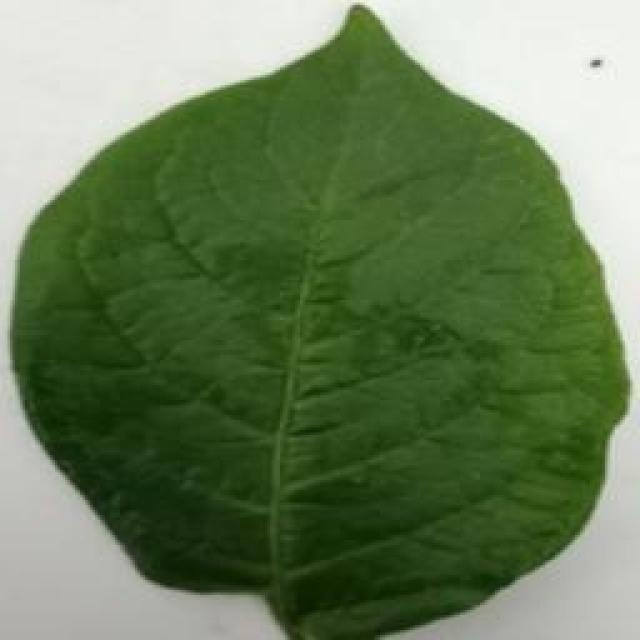Potato_Healthy: (11, 1, 621, 634)
